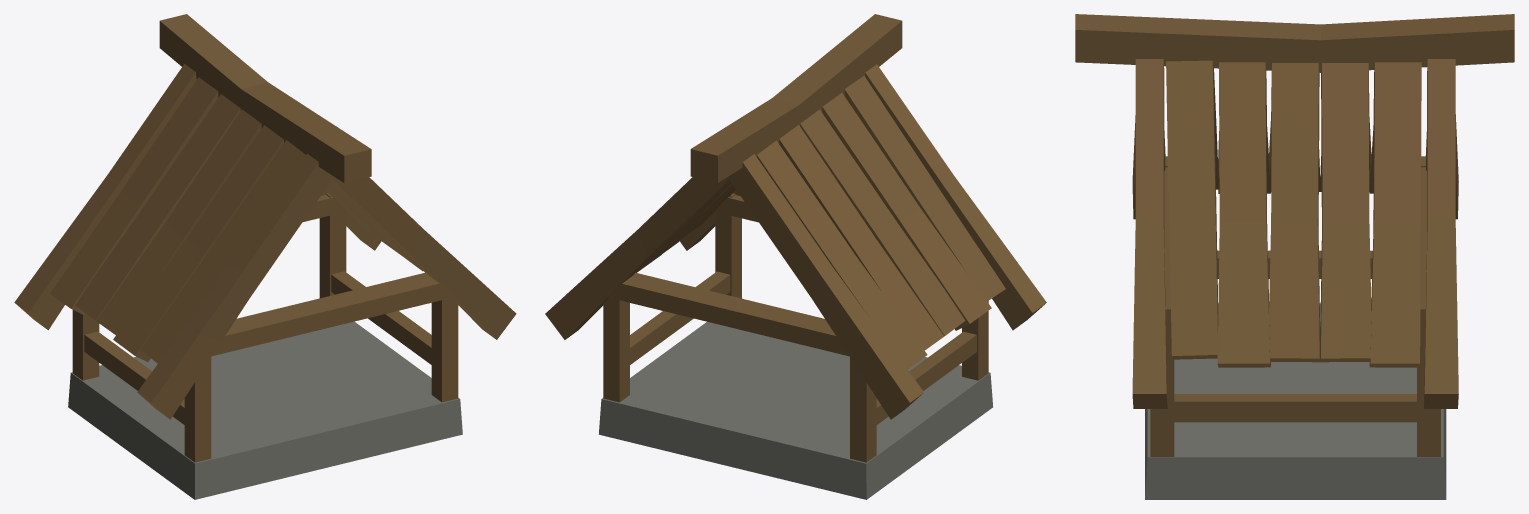
The model's file is Hut.glb.
3 renders of one model, left to right at view 1: azimuth 30°, elevation 25°; view 2: azimuth 150°, elevation 25°; view 3: azimuth 270°, elevation 25°, orthographic. The views are drawn at different scales.
Visible parts, largest first — view 1: Hut_Merged; view 2: Hut_Merged; view 3: Hut_Merged.
Boxes of the visible parts, x1,y1,x2,y2 form: Hut_Merged: [14, 14, 516, 499]; Hut_Merged: [545, 14, 1046, 499]; Hut_Merged: [1075, 14, 1514, 499].
Size of the model in its own units: 0.8693 by 0.7645 by 0.7614.
